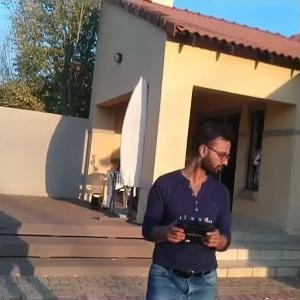follow: (136, 110, 237, 298)
